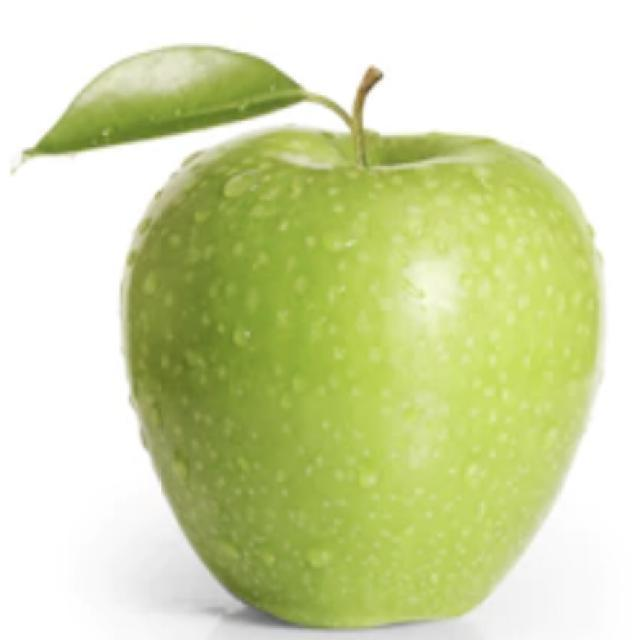Fresh Apple: (131, 106, 605, 640)
